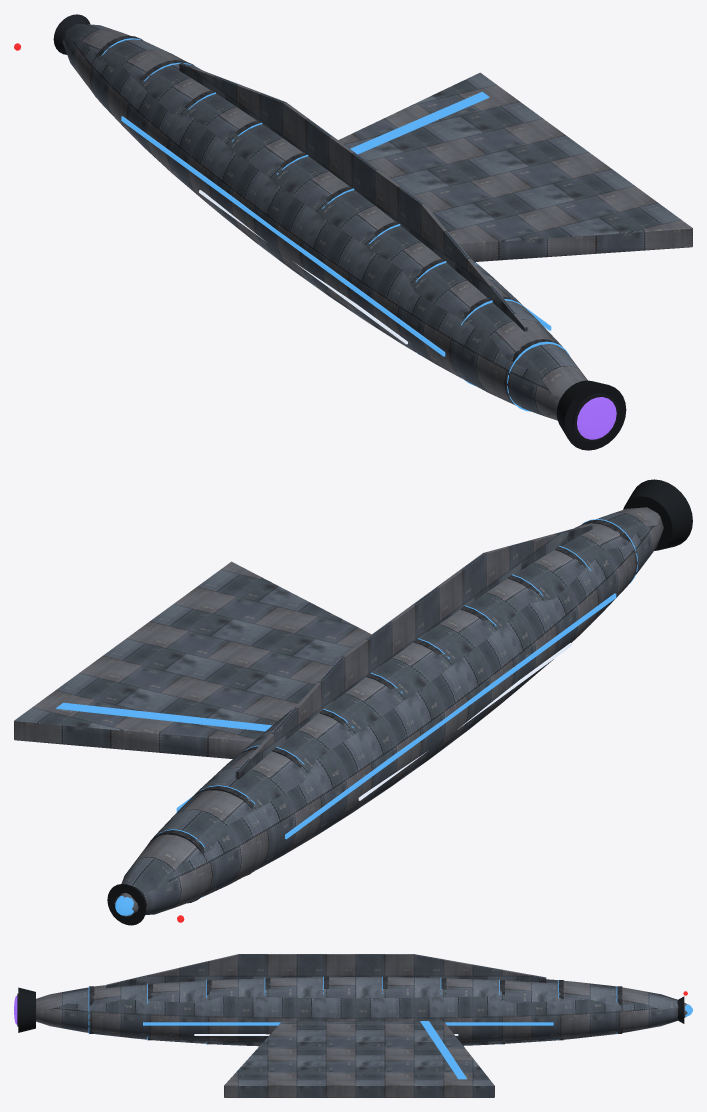
File: arch_nacelle_port.glb
3 renders of one model, top to bottom at view 1: azimuth 30°, elevation 25°; view 2: azimuth 150°, elevation 25°; view 3: azimuth 270°, elevation 25°, orthographic. The views are drawn at different scales.
Parts seen in each view (by area): view 1: arch_nacelle_port; view 2: arch_nacelle_port; view 3: arch_nacelle_port.
Part boxes in pixels (x1=…): arch_nacelle_port: x1=14, y1=14, x2=692, y2=450; arch_nacelle_port: x1=14, y1=479, x2=692, y2=925; arch_nacelle_port: x1=14, y1=954, x2=692, y2=1097.
Bounding box in the file's own units: 15.85 × 6.77 × 46.3.
Materials: 8 (2 with a texture image).
